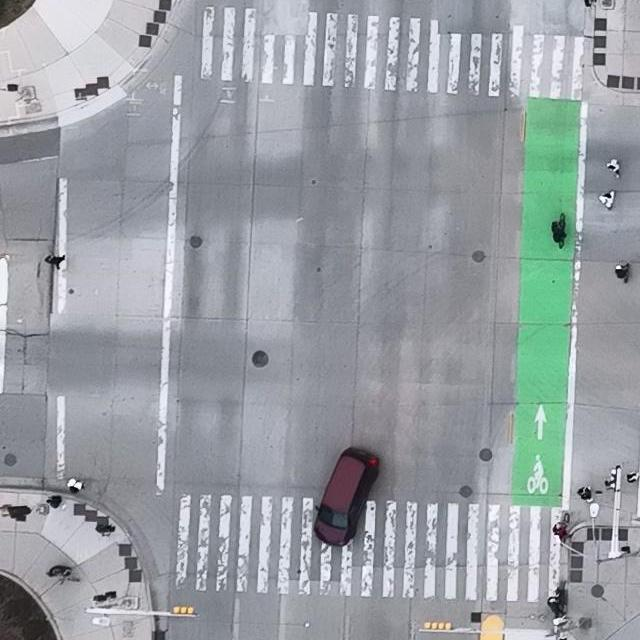car: (312, 447, 379, 545)
